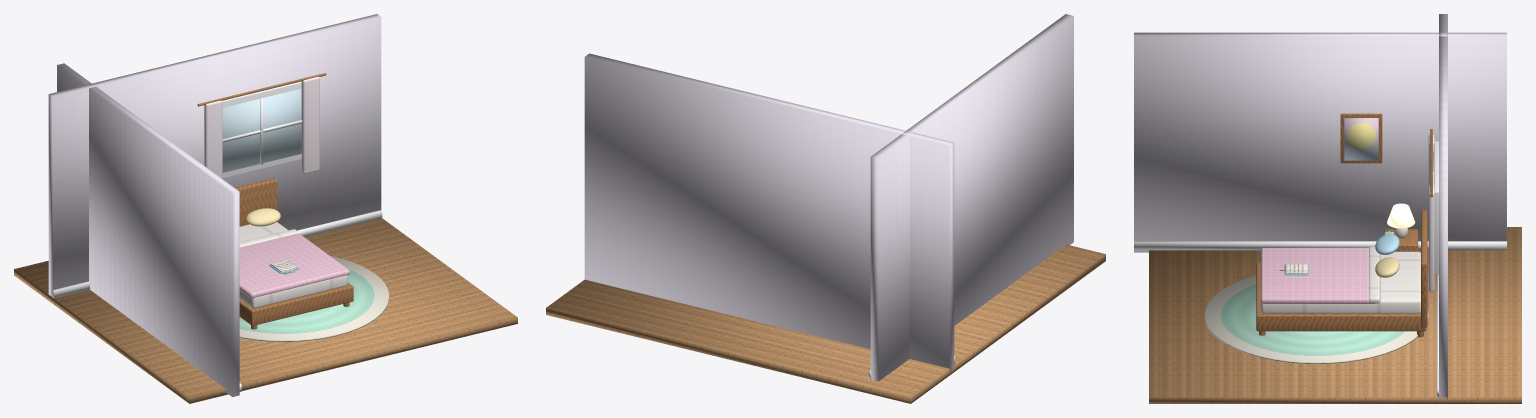
File: study-room.glb
The picture shows the model from 3 angles, left to right: view 1: azimuth 30°, elevation 25°; view 2: azimuth 150°, elevation 25°; view 3: azimuth 270°, elevation 25°; orthographic projection. The views are drawn at different scales.
Parts seen in each view (by area): view 1: BackWall, LeftWall, Floor, WindowGlass, Rug, Duvet, BedFrame, CurtainRight, Mattress, CurtainLeft, Headboard, WindowFrame (+2 smaller); view 2: BackWall, LeftWall, Floor; view 3: LeftWall, Floor, Rug, Duvet, BackWall, BedFrame, Mattress, BaseboardLeft, PosterCanvas, Headboard, PosterFrame, CurtainRight (+6 smaller).
Boxes of the visible parts, box(x1,y1,x2,y2) form: BackWall: box(48, 14, 381, 296); LeftWall: box(57, 63, 239, 396); Floor: box(14, 218, 517, 403); WindowGlass: box(222, 88, 301, 172); Rug: box(239, 256, 389, 341); Duvet: box(239, 233, 349, 298); BedFrame: box(239, 283, 353, 325); CurtainRight: box(301, 76, 319, 173); Mattress: box(239, 222, 347, 308); CurtainLeft: box(204, 100, 222, 178); Headboard: box(235, 178, 277, 226); WindowFrame: box(222, 81, 301, 178); BackWall: box(584, 53, 954, 371); LeftWall: box(870, 14, 1073, 381); Floor: box(546, 244, 1105, 403); LeftWall: box(1134, 32, 1506, 252); Floor: box(1149, 227, 1521, 403); Rug: box(1205, 275, 1428, 363); Duvet: box(1261, 248, 1374, 303); BackWall: box(1439, 14, 1447, 400); BedFrame: box(1256, 263, 1426, 331); Mattress: box(1261, 251, 1420, 313); BaseboardLeft: box(1134, 241, 1506, 250); PosterCanvas: box(1344, 118, 1378, 160); Headboard: box(1421, 210, 1427, 327); PosterFrame: box(1340, 113, 1382, 163); CurtainRight: box(1428, 185, 1434, 291).
Bounding box in the file's own units: 5.4 × 3.25 × 5.2.
20 materials, 11 textured.
